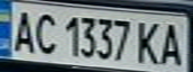1: (60, 11, 81, 56)
3: (93, 16, 115, 61), (78, 13, 96, 60)
7: (112, 16, 136, 63)
A: (6, 7, 39, 54), (157, 19, 187, 67)
C: (30, 9, 60, 56)
K: (133, 18, 163, 65)
